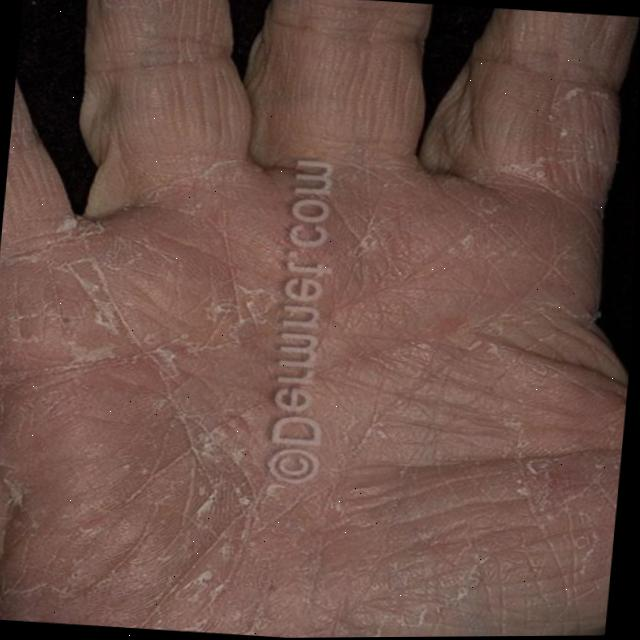Eczema: (0, 53, 639, 640)
